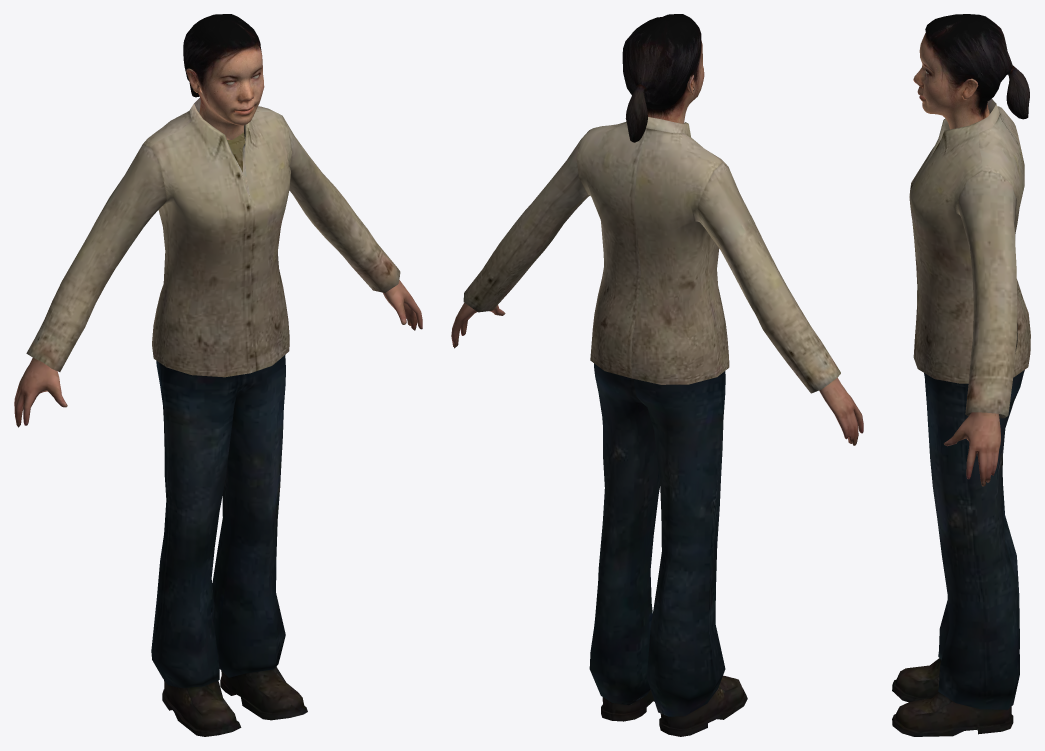
File: female_04.glb
The picture shows the model from 3 angles, left to right: view 1: azimuth 30°, elevation 25°; view 2: azimuth 150°, elevation 25°; view 3: azimuth 270°, elevation 25°; orthographic projection.
Parts seen in each view (by area): view 1: 4_citizen_sheet, 0_chau_facemap; view 2: 4_citizen_sheet, 0_chau_facemap; view 3: 4_citizen_sheet, 0_chau_facemap.
Part boxes in pixels (left/top/right/bottom): 4_citizen_sheet: left=14, top=98, right=422, bottom=736; 0_chau_facemap: left=183, top=14, right=264, bottom=139; 4_citizen_sheet: left=451, top=117, right=863, bottom=736; 0_chau_facemap: left=622, top=14, right=704, bottom=142; 4_citizen_sheet: left=892, top=99, right=1030, bottom=736; 0_chau_facemap: left=913, top=14, right=1029, bottom=129.
Size of the model in its own units: 1.09 by 1.78 by 0.3233.
Materials: 5 (5 with a texture image).
